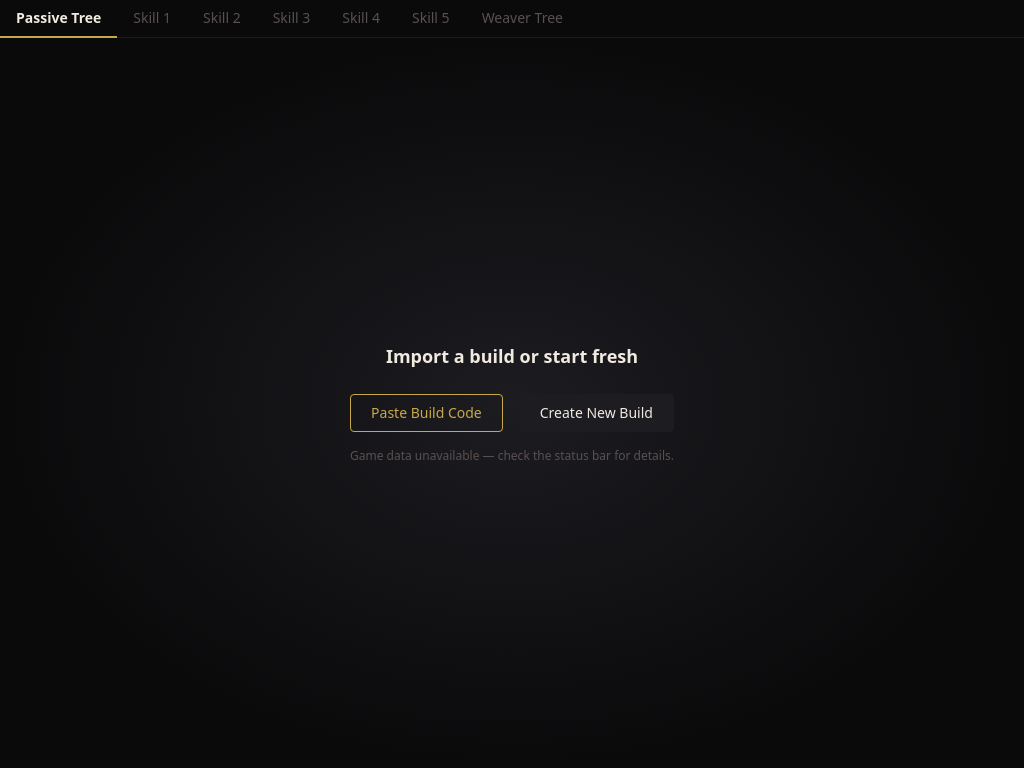
Test: SkillTreeView — Weaver tab conditional › renders WeaverTreePlaceholder when weaverTreeData is null
Click the tab "Weaver Tree": (522, 19) [466,0,579,38]
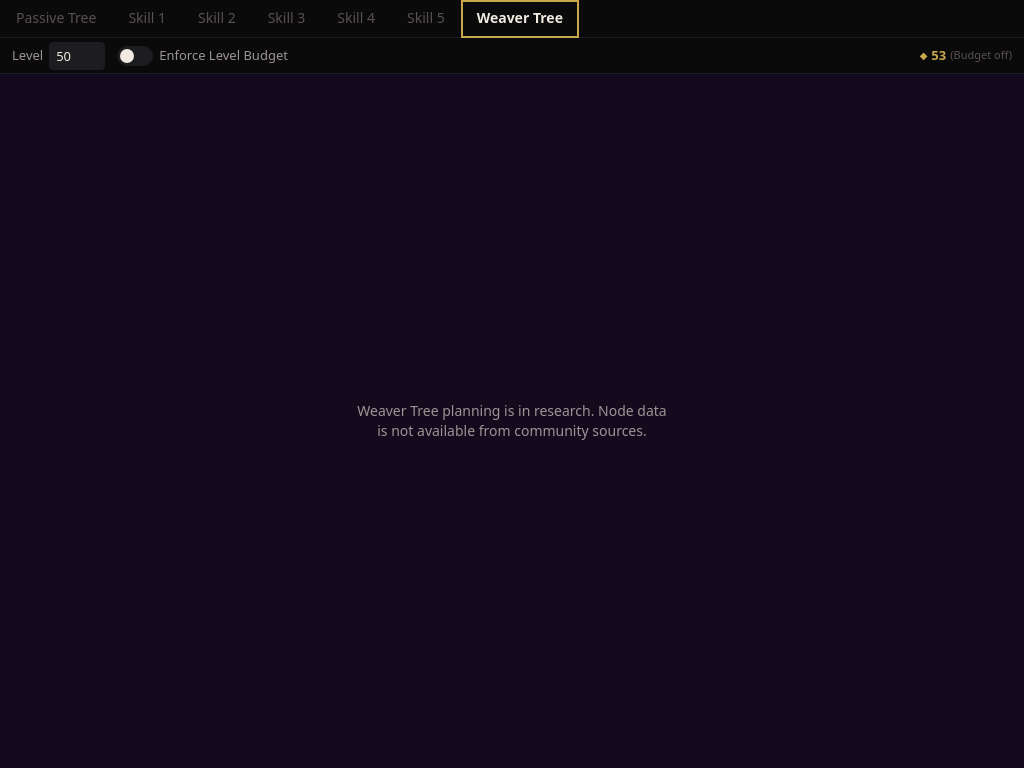
expect the text "Weaver Tree planning is in research. Node data is not available from community sources." is shown: met, box [357,401,667,440]
